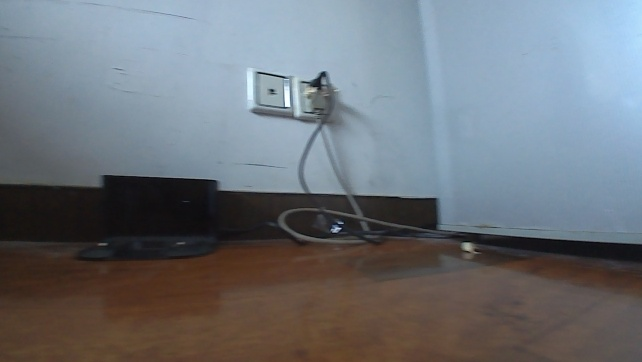charger: (75, 173, 220, 260)
wire: (219, 76, 457, 243), (273, 90, 458, 245)
